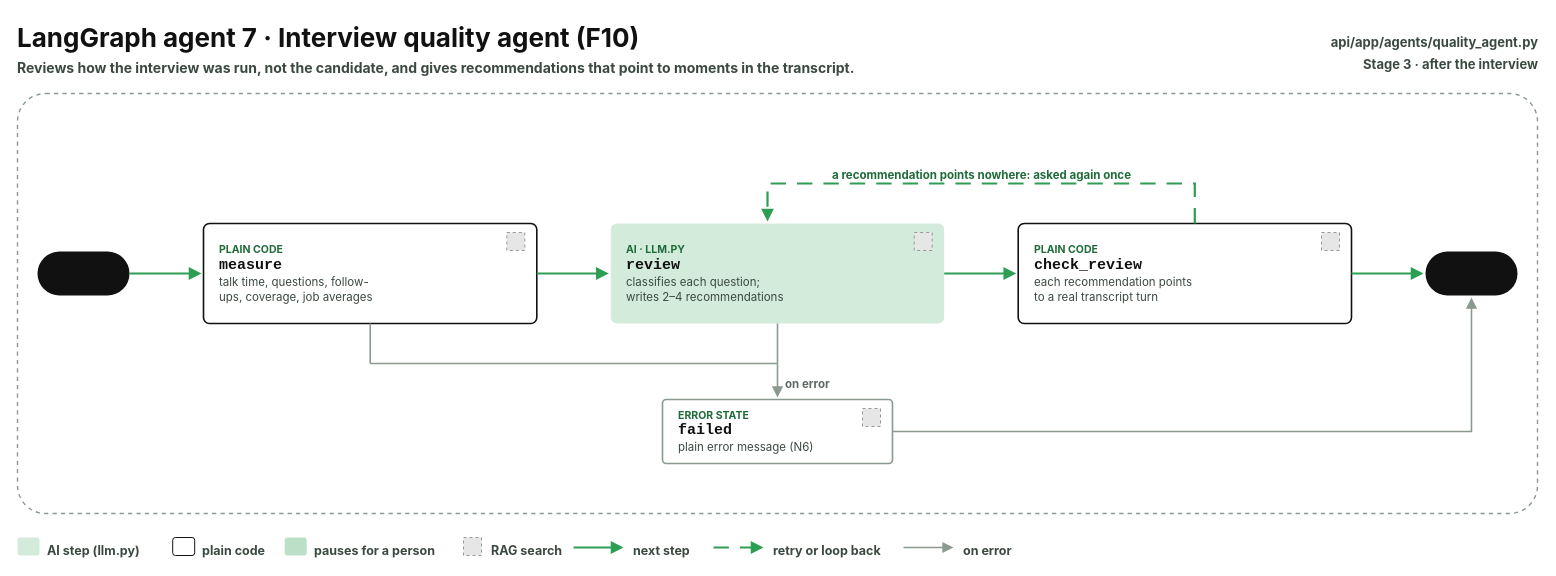
This 1556x576 diagram has some shape labels left out. Grey dashed boxes stand in for pictures. The shapes that lost their labels are listed below. From the top down, each one's centre as x and y in pixels, then its label:
At pixel 83 273: "START".
At pixel 1471 273: "END".
